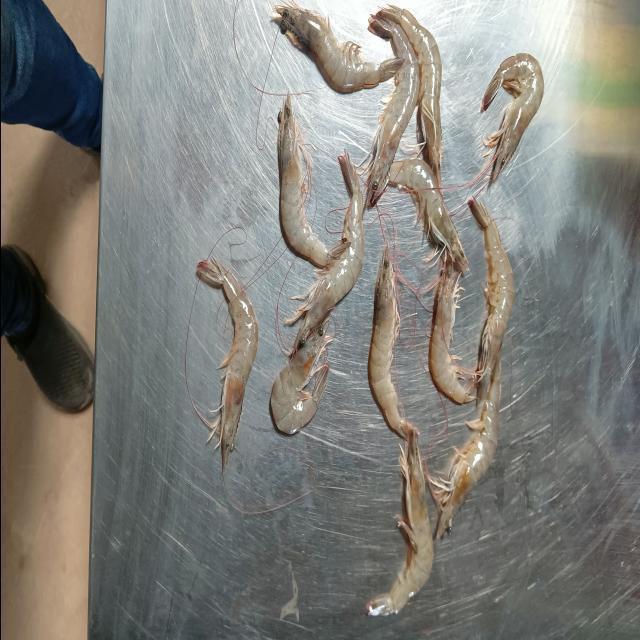shrimp: (285, 151, 364, 350), (426, 354, 500, 538), (196, 259, 258, 469), (365, 427, 432, 615), (270, 7, 401, 93), (379, 7, 441, 186), (365, 13, 419, 208), (388, 157, 468, 272), (276, 95, 329, 268), (469, 199, 512, 403), (480, 53, 542, 186), (366, 246, 406, 438), (270, 317, 331, 434), (428, 261, 475, 405)
